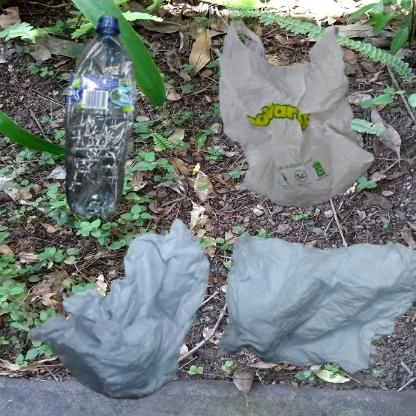bolsa: (213, 10, 380, 216)
botella: (10, 10, 246, 296)
papel: (10, 213, 243, 416), (213, 213, 416, 396)
